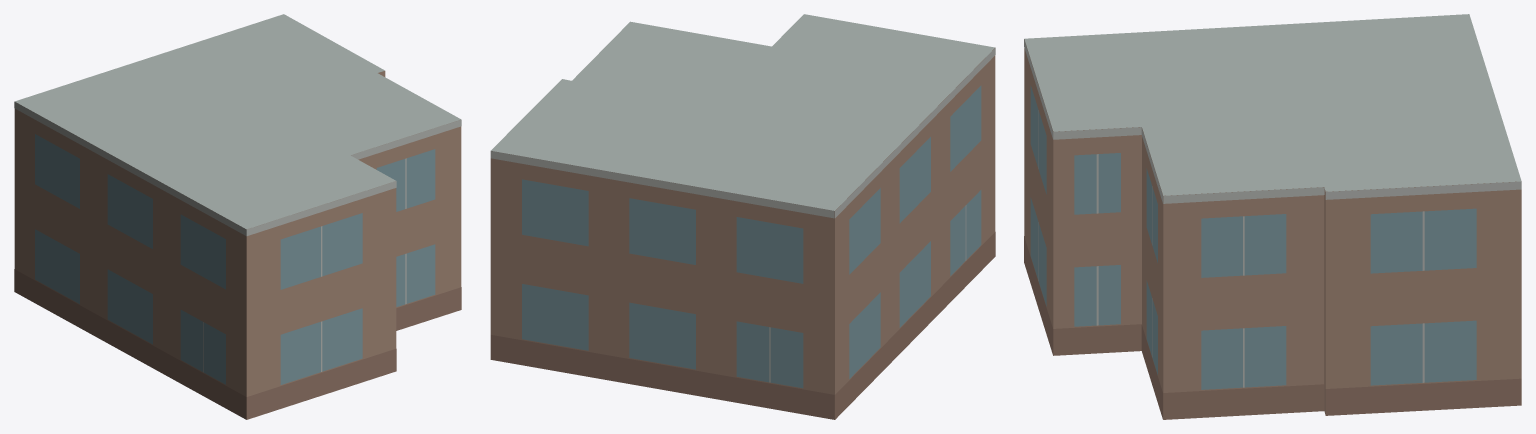
File: survey-upis-32799589.glb
3 views of the same model, side by side, from view 1: azimuth 30°, elevation 25°; view 2: azimuth 150°, elevation 25°; view 3: azimuth 270°, elevation 25° (orthographic). The views are drawn at different scales.
Parts seen in each view (by area): view 1: survey-upis-32799589.tmp; view 2: survey-upis-32799589.tmp; view 3: survey-upis-32799589.tmp.
Part boxes in pixels (bbox=[...]): survey-upis-32799589.tmp: bbox=[14, 14, 461, 419]; survey-upis-32799589.tmp: bbox=[490, 14, 995, 419]; survey-upis-32799589.tmp: bbox=[1024, 14, 1521, 419].
Bounding box in the file's own units: 11.76 × 6.75 × 13.6.
